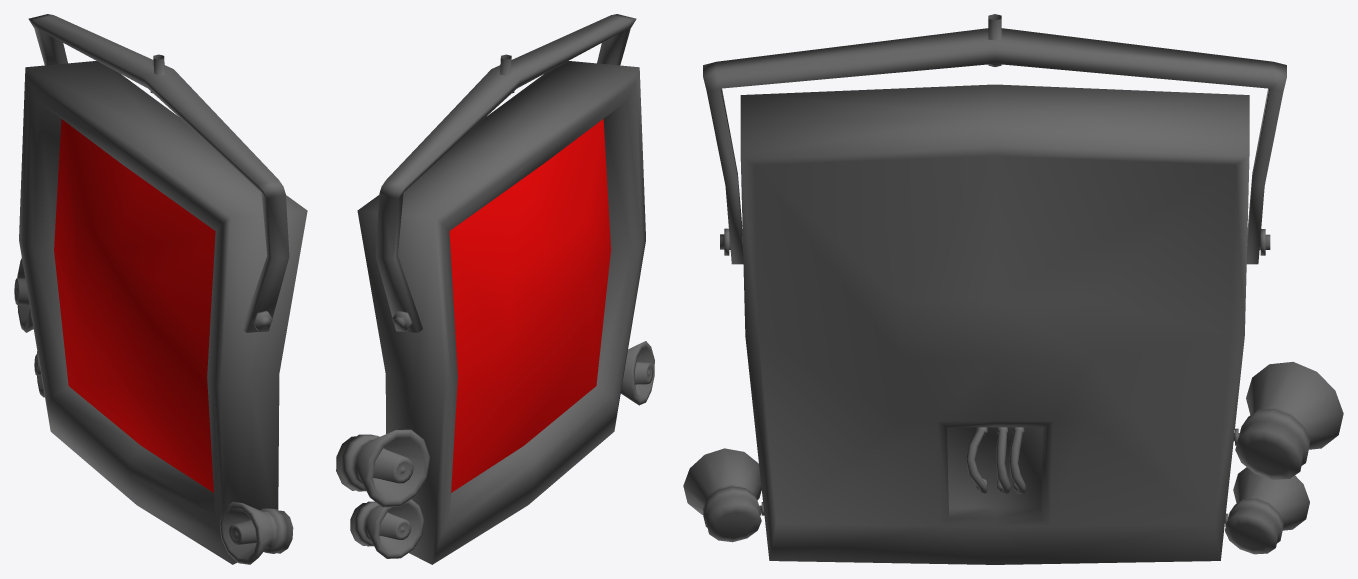
The model's file is MOD_Tele.FBX.
3 views of the same model, side by side, from view 1: azimuth 30°, elevation 25°; view 2: azimuth 150°, elevation 25°; view 3: azimuth 270°, elevation 25° (orthographic). The views are drawn at different scales.
Parts seen in each view (by area): view 1: MOD_Tele; view 2: MOD_Tele; view 3: MOD_Tele.
Boxes of the visible parts, x1,y1,x2,y2 form: MOD_Tele: (14,14,307,564); MOD_Tele: (336,14,654,564); MOD_Tele: (683,14,1343,564).
Size of the model in its own units: 83.73 by 322 by 351.
